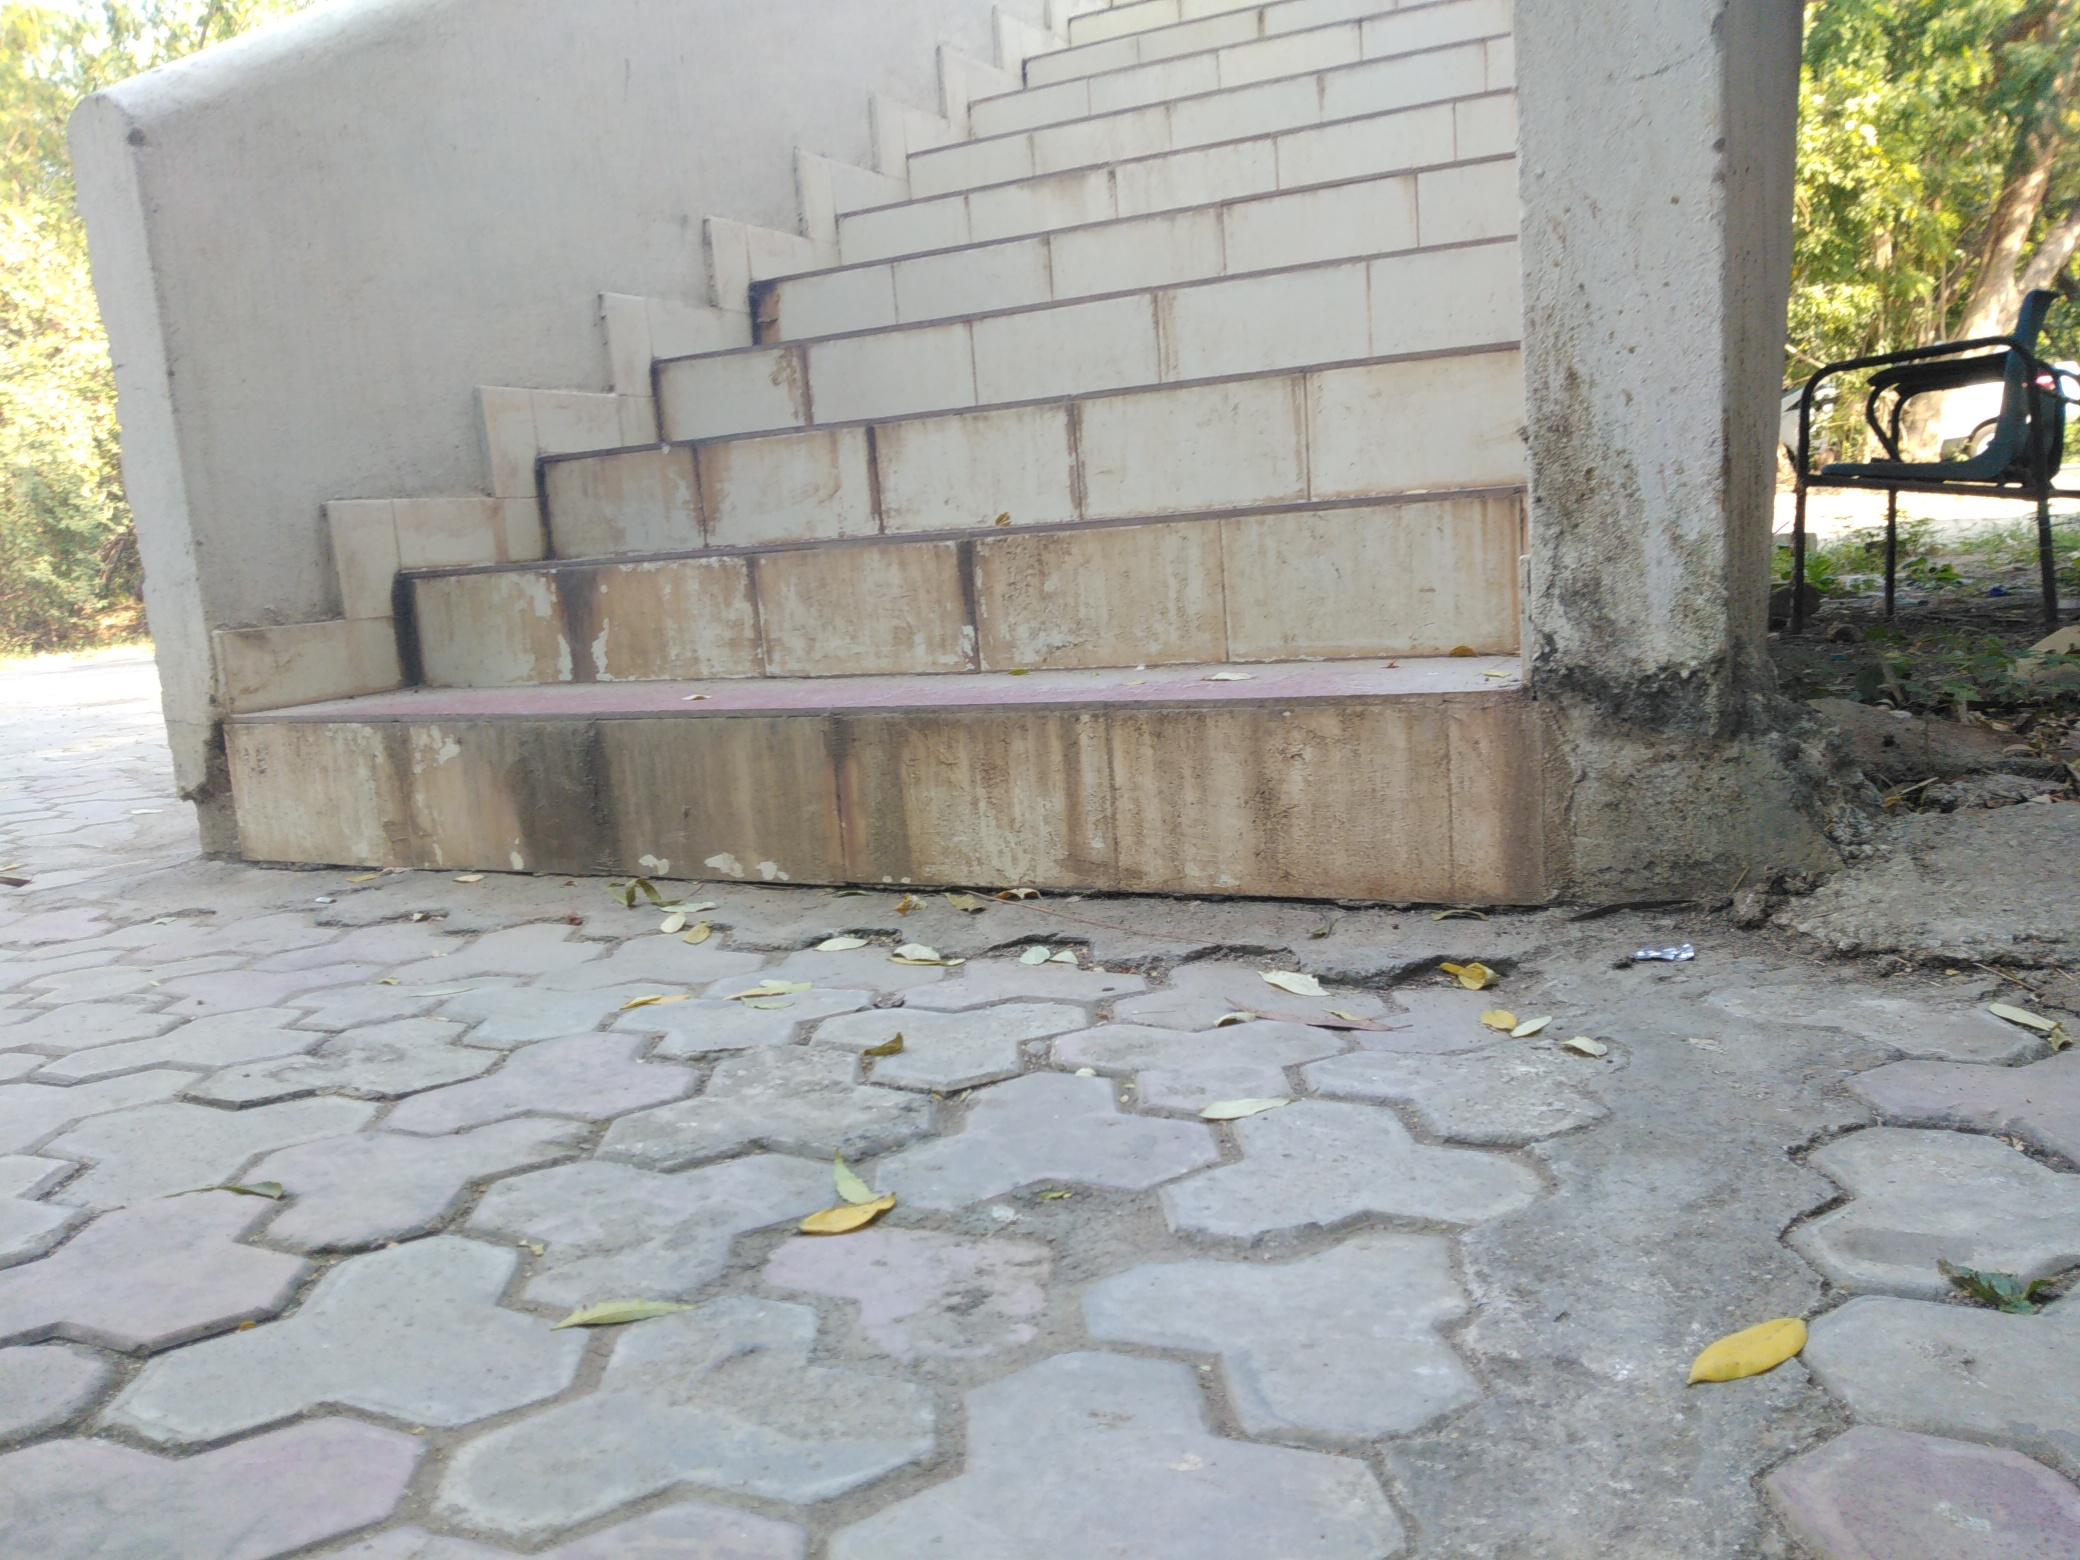stairs_up: (179, 2, 1508, 905)
